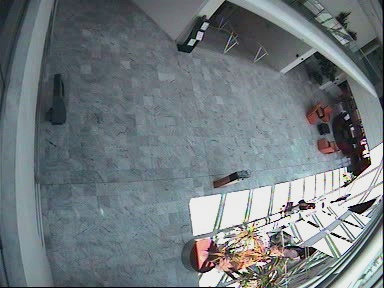person: (279, 200, 315, 214)
